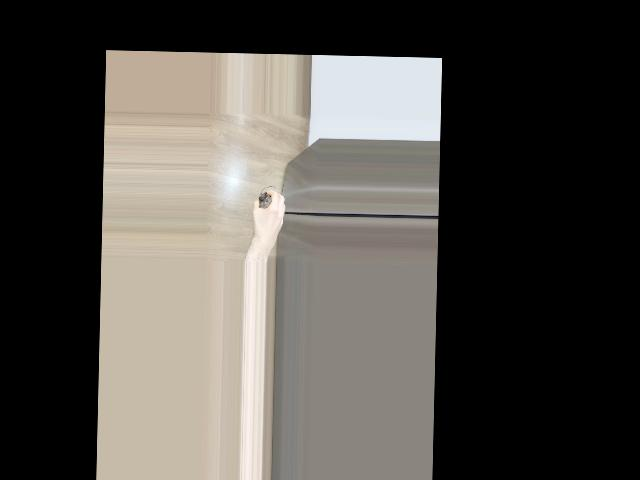beet: (258, 184, 275, 208)
